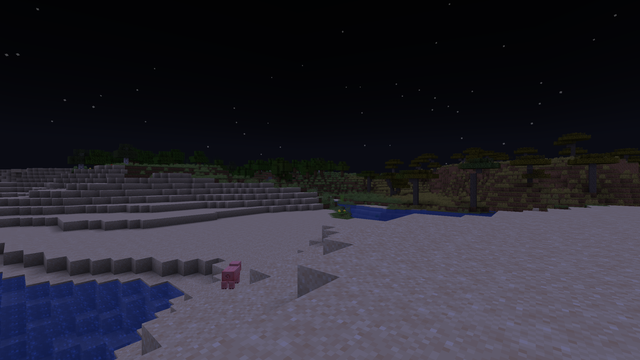cochons: (219, 264, 243, 289)
